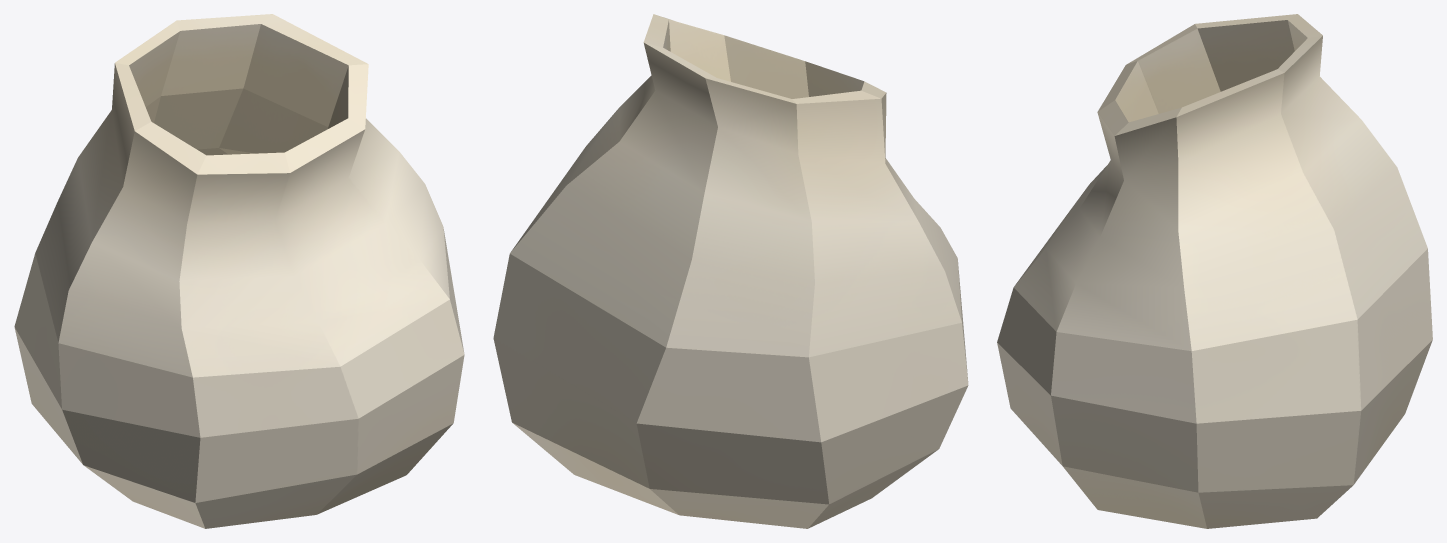
The model's file is post_bag.fbx.
The picture shows the model from 3 angles, left to right: view 1: azimuth 30°, elevation 25°; view 2: azimuth 150°, elevation 25°; view 3: azimuth 270°, elevation 25°; orthographic projection. The views are drawn at different scales.
Parts seen in each view (by area): view 1: pCube1; view 2: pCube1; view 3: pCube1.
Part boxes in pixels (box(x1,y1,x2,y2)): pCube1: box(14, 14, 464, 528); pCube1: box(493, 14, 968, 528); pCube1: box(997, 14, 1432, 528).
Size of the model in its own units: 5.73 by 5.89 by 5.32.
1 material, 1 textured.
